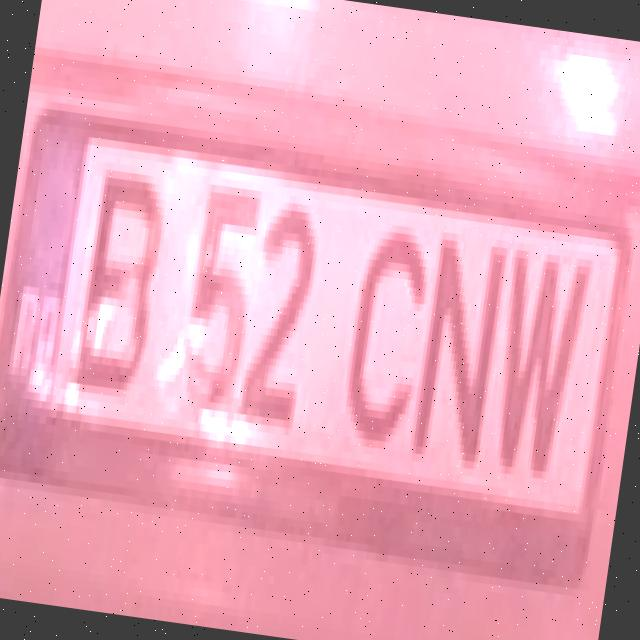EU: (0, 117, 634, 574)
Romanie: (0, 126, 90, 440)
